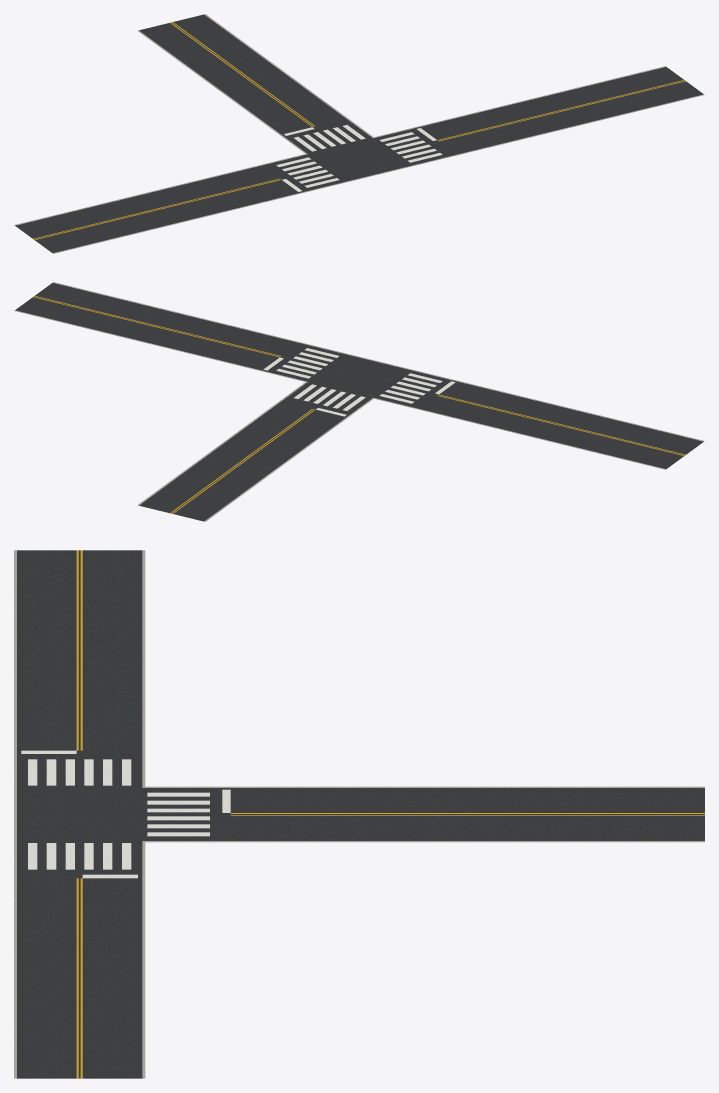
The model's file is road_a_TeeNorth.gltf.
The picture shows the model from 3 angles, top to bottom: view 1: azimuth 30°, elevation 25°; view 2: azimuth 150°, elevation 25°; view 3: azimuth 270°, elevation 25°; orthographic projection. The views are drawn at different scales.
Visible parts, largest first — view 1: road_a_TeeNorth; view 2: road_a_TeeNorth; view 3: road_a_TeeNorth.
Boxes of the visible parts, box(x1,y1,x2,y2) form: road_a_TeeNorth: box(14, 14, 704, 253); road_a_TeeNorth: box(14, 282, 704, 521); road_a_TeeNorth: box(14, 550, 704, 1078).
Size of the model in its own units: 60 by 0.0045 by 33.15.
Materials: 2 (2 with a texture image).
